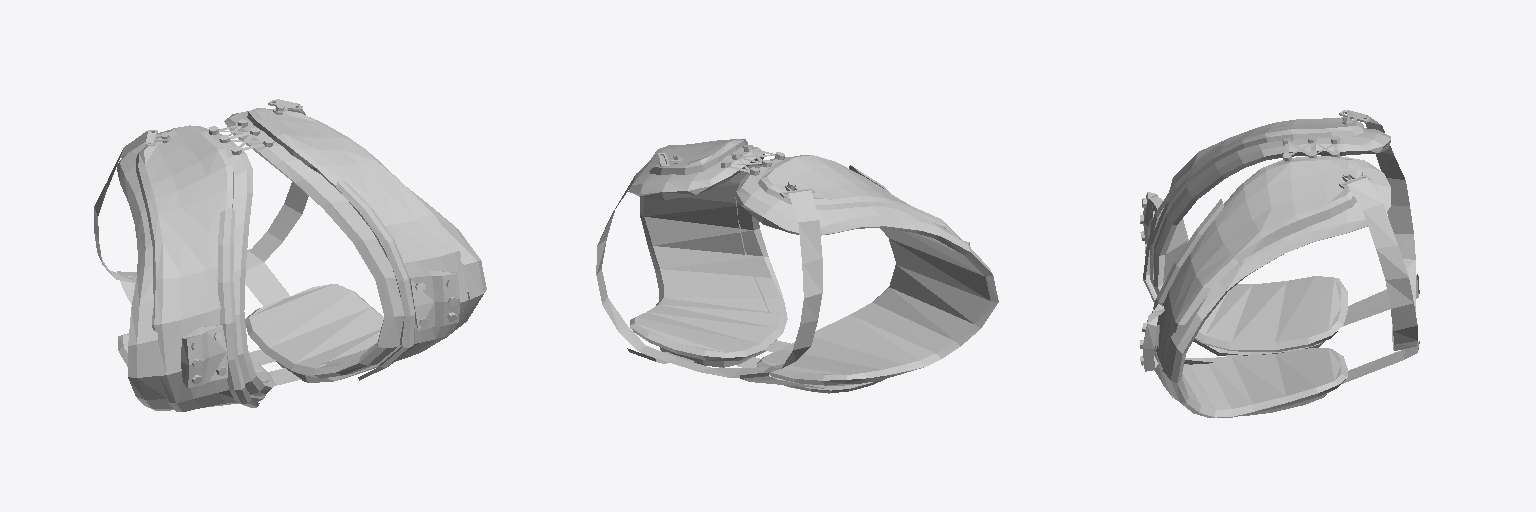
The model's file is FootballBodyArmor.obj.
3 views of the same model, side by side, from view 1: azimuth 30°, elevation 25°; view 2: azimuth 150°, elevation 25°; view 3: azimuth 270°, elevation 25° (orthographic).
Visible parts, largest first — view 1: Arms.001; view 2: Arms.001; view 3: Arms.001.
Part boxes in pixels (x1,y1,x2,y2): Arms.001: (94, 99, 486, 411); Arms.001: (596, 139, 998, 393); Arms.001: (1140, 110, 1419, 417).
Bounding box in the file's own units: 41.11 × 24.76 × 27.81.